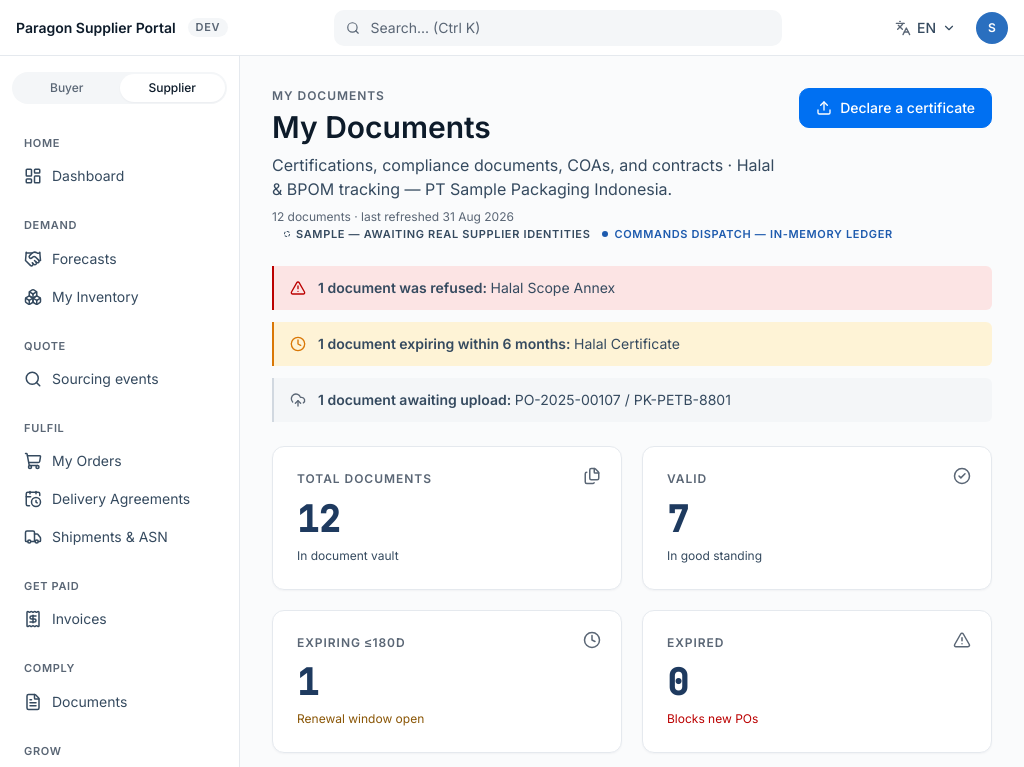
Test: §82 · the supplier declares — and the surface says what it is › ⚠️ OFFERS NO FILE CONTROL, AND SAYS SO IN WORDS BEFORE THE ACT
This screenshot has width=1024, height=767.
Click the button "Declare a certificate": (896, 108) [799,88,992,128]
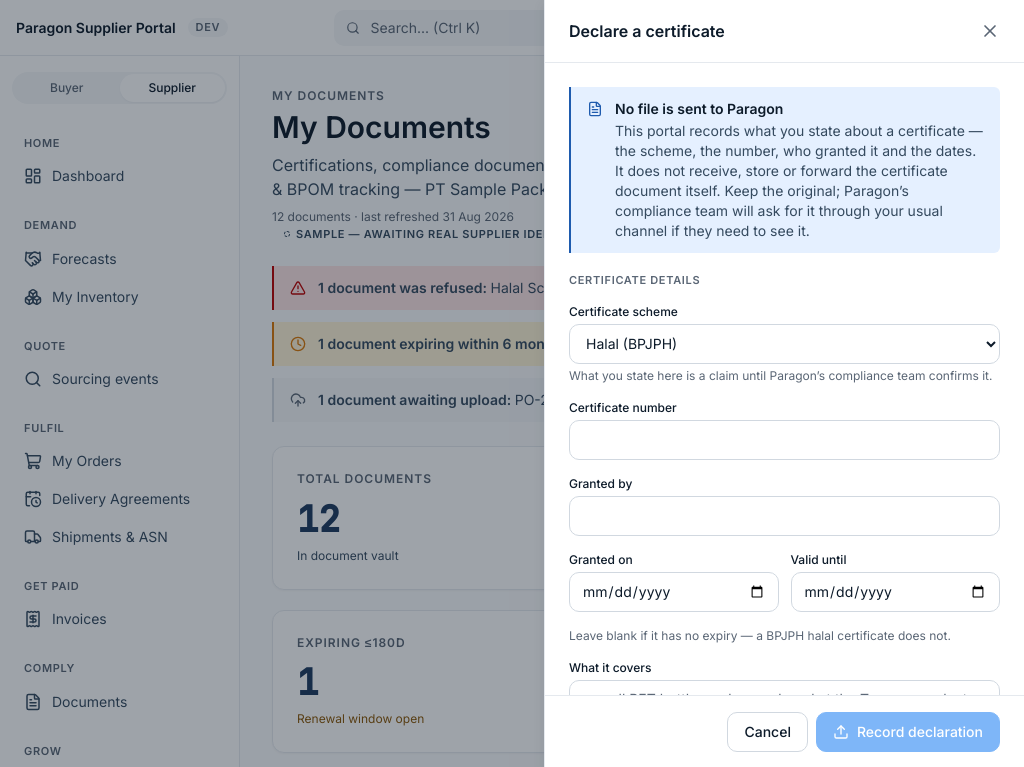
Check: the element with test id "declaration-nofile-notice" shows "does not receive, store or forward the certificate document itself", box [615,122,983,239]
